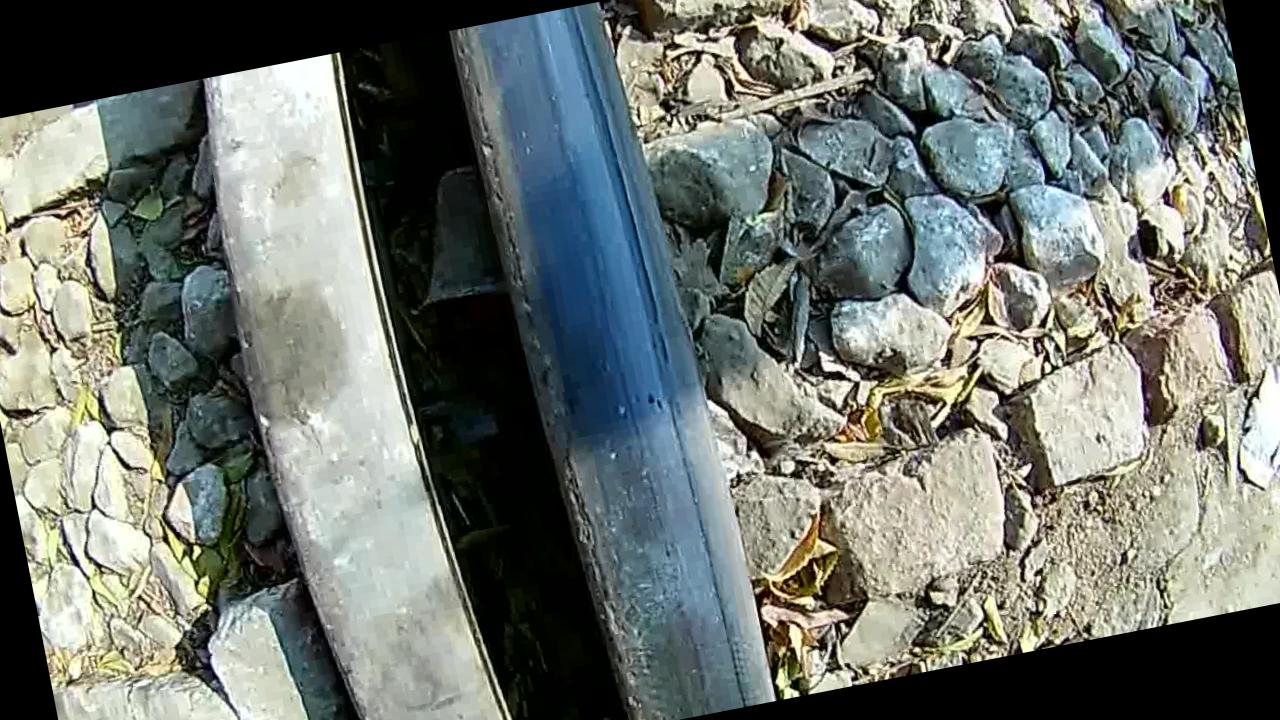clip_missing: (439, 0, 793, 720)
